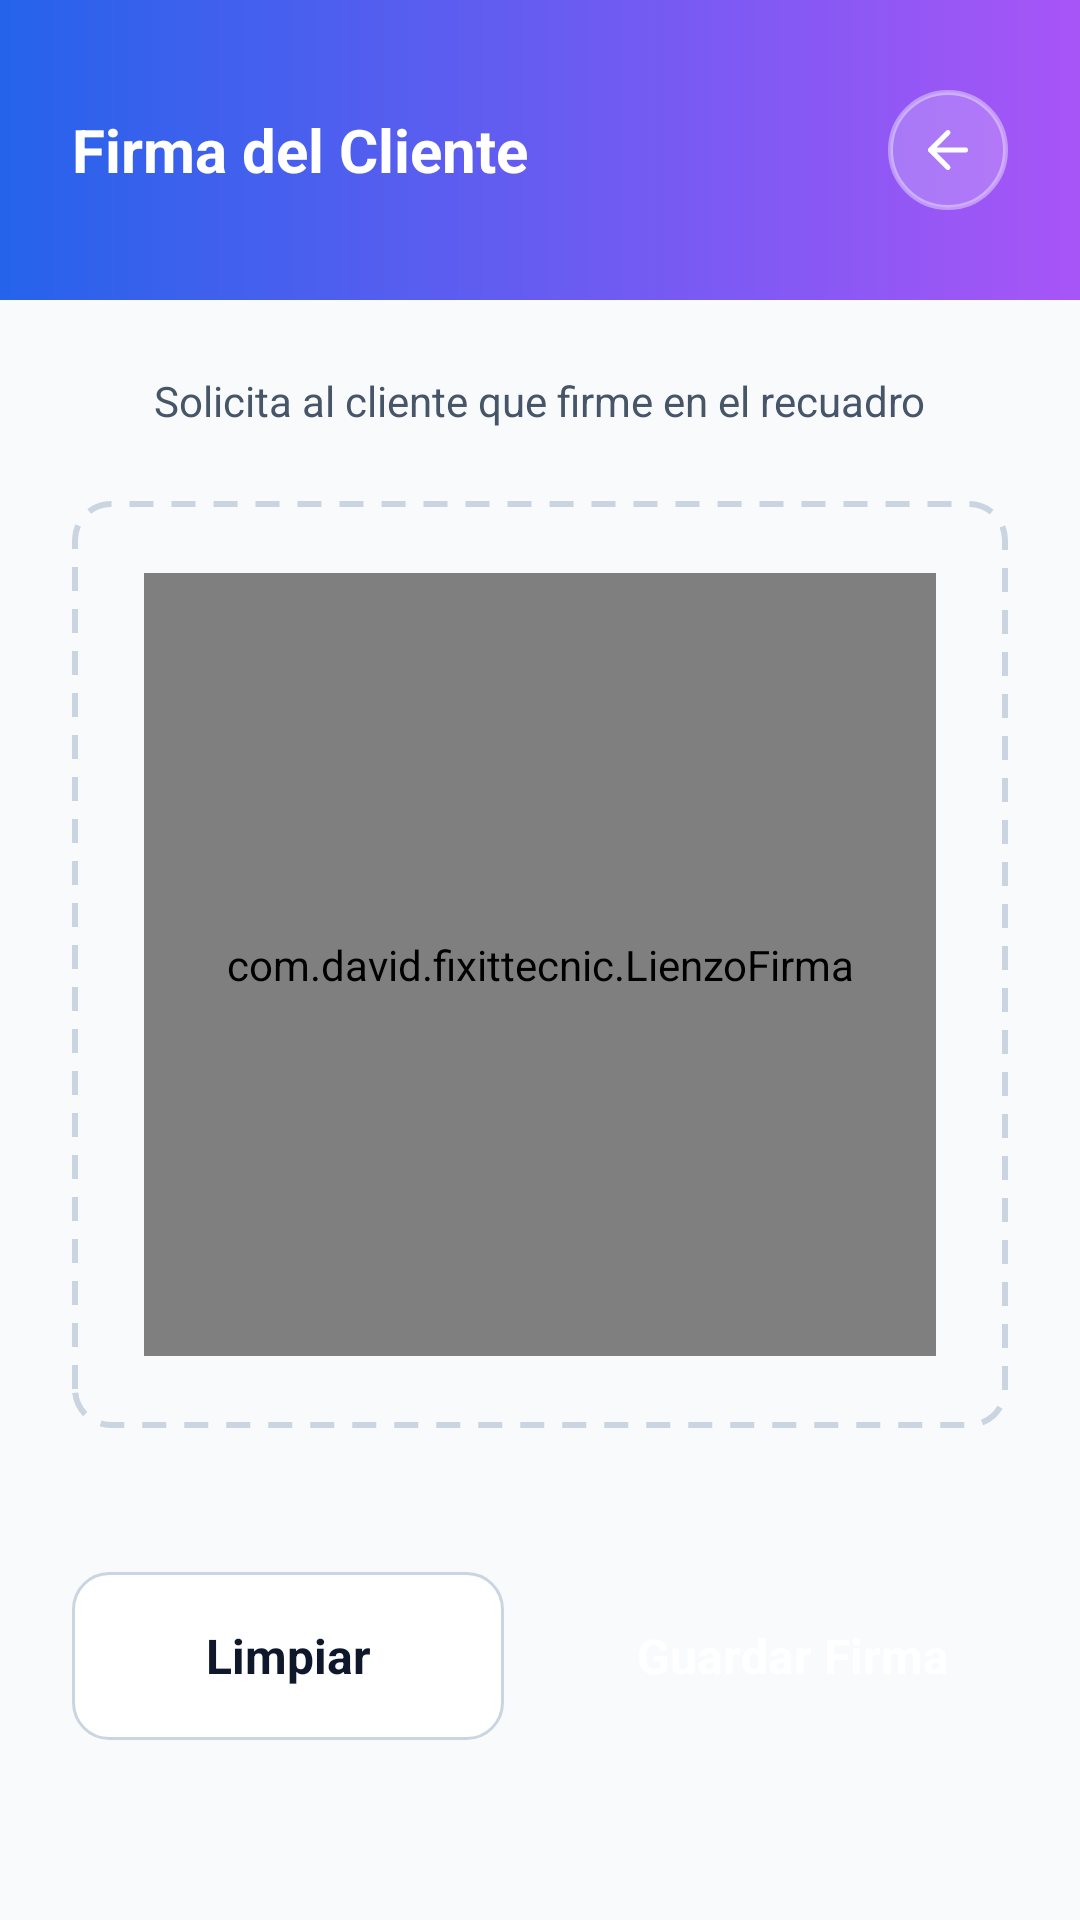

Point at icon controls on the screen. Image size 1080px x 1920px, points as (x,y).
flecha volver: (948,150)
